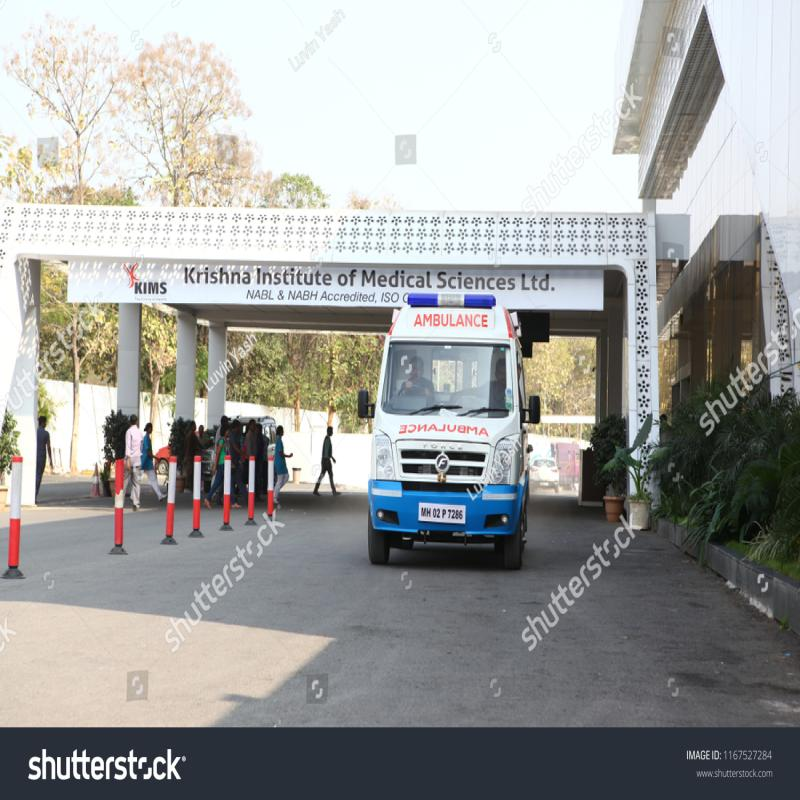ambulance: (360, 274, 535, 568)
